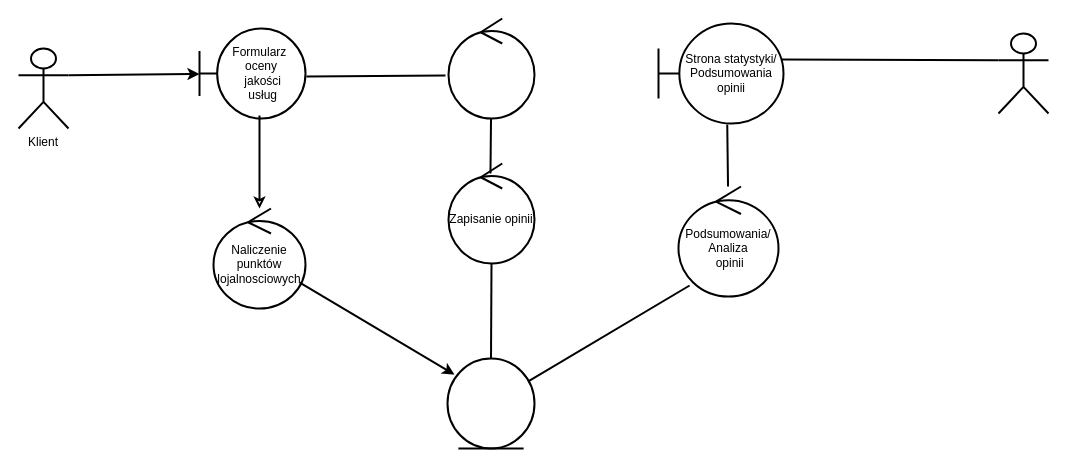
Image size: 1076x466. Some labels were removed from this diagram. The centre of each missing label's shape, as x and y in pixels:
"Administrator" belongs at pixel 1023 73.
"Baza danych" belongs at pixel 490 403.
"Grupowanie danych" belongs at pixel 491 68.
